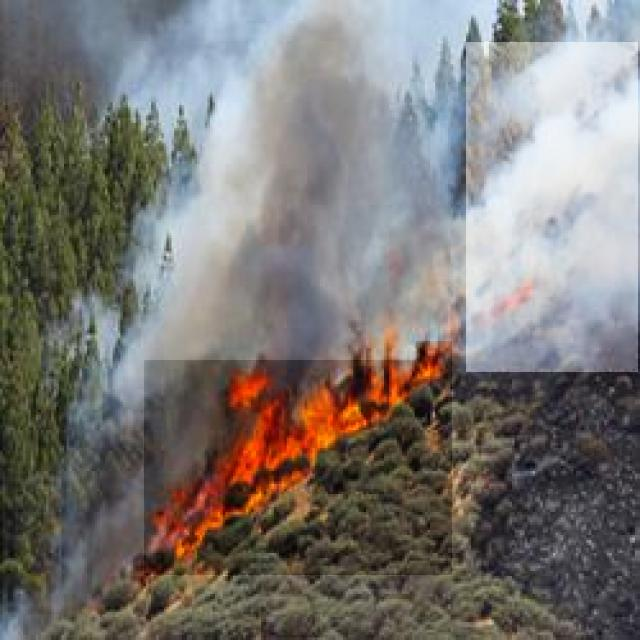Fire: (144, 341, 452, 575), (494, 278, 535, 318)
Smoke: (141, 34, 416, 360), (466, 42, 638, 372)
